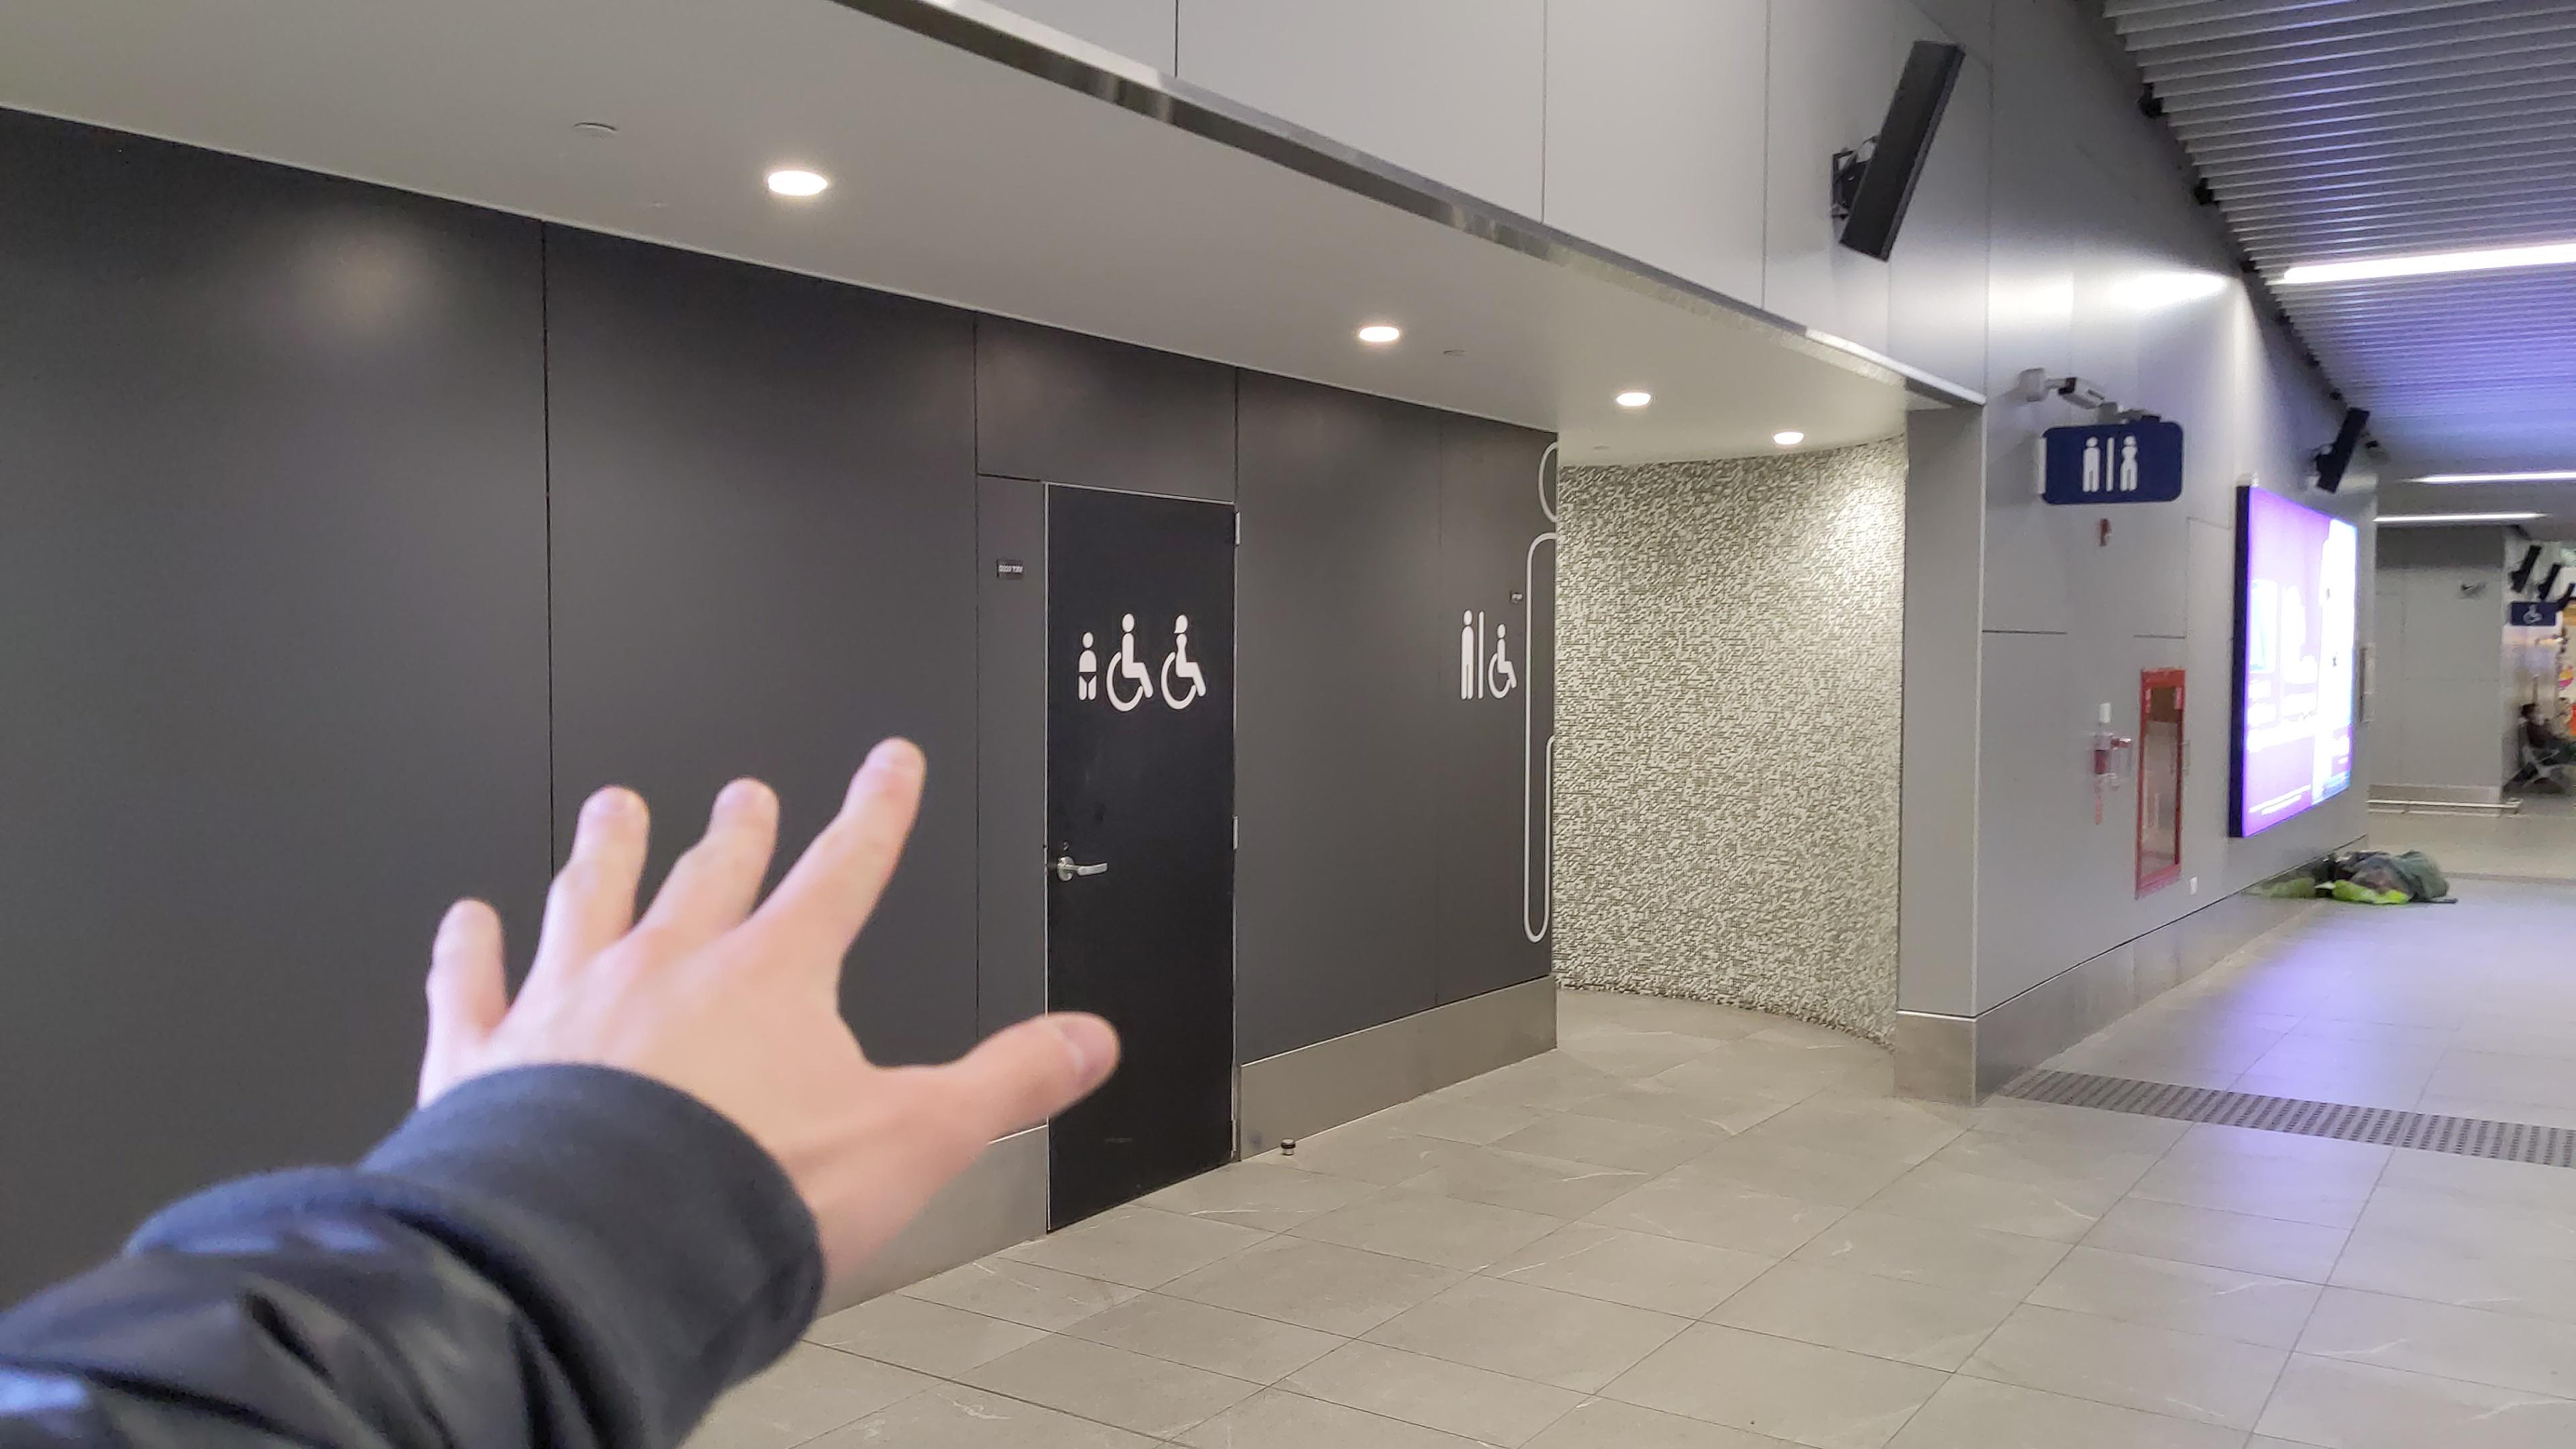bathrooms: (2079, 433, 2143, 495)
handicapped symbol: (1104, 612, 1155, 713), (1161, 614, 1208, 711), (1488, 623, 1518, 699)
